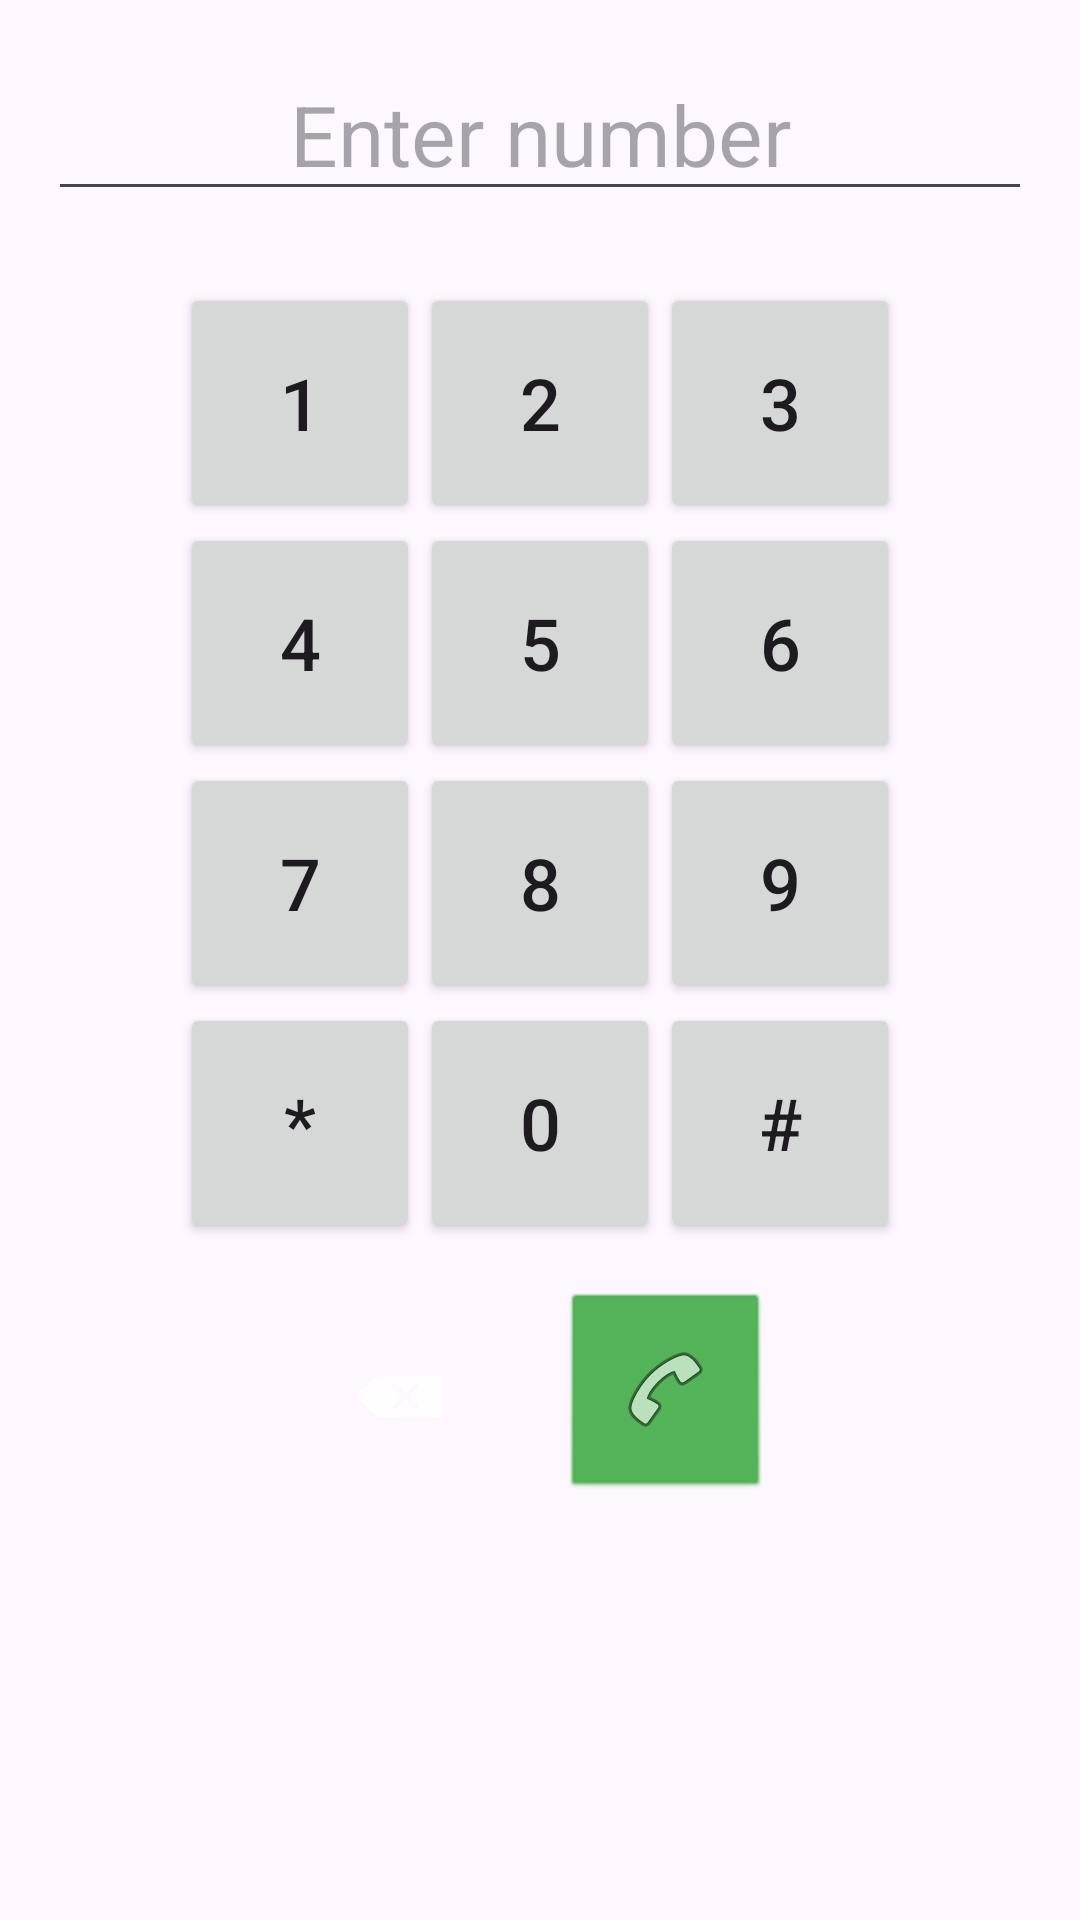

Named icons in this screenshot (1080x1920) and their centers, point (x, y):
Call: point (665, 1390)
